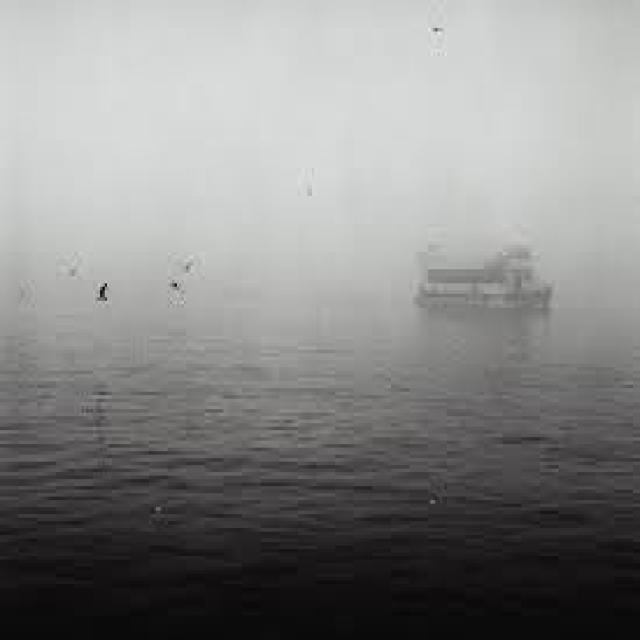fishing boat: (389, 202, 562, 328)
